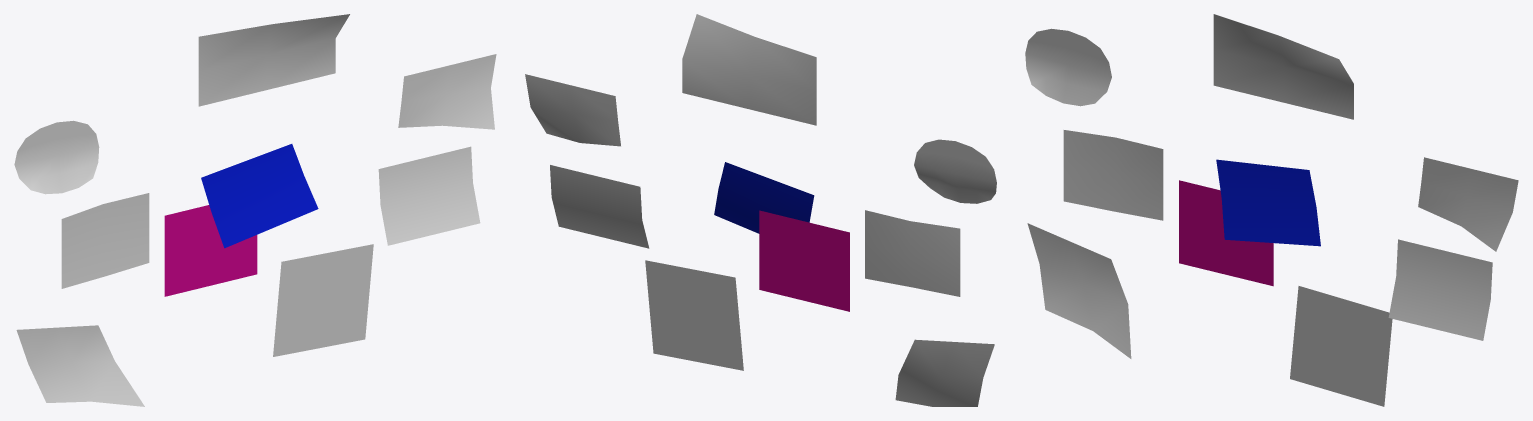
The model's file is mod_papeles.fbx.
3 renders of one model, left to right at view 1: azimuth 30°, elevation 25°; view 2: azimuth 150°, elevation 25°; view 3: azimuth 330°, elevation 25°, orthographic. The views are drawn at different scales.
Visible parts, largest first — view 1: Plane.009; view 2: Plane.009; view 3: Plane.009.
Boxes of the visible parts, x1,y1,x2,y2 form: Plane.009: (14,14,496,406); Plane.009: (525,14,996,406); Plane.009: (1025,14,1518,406).
Size of the model in its own units: 152 by 104 by 8.
